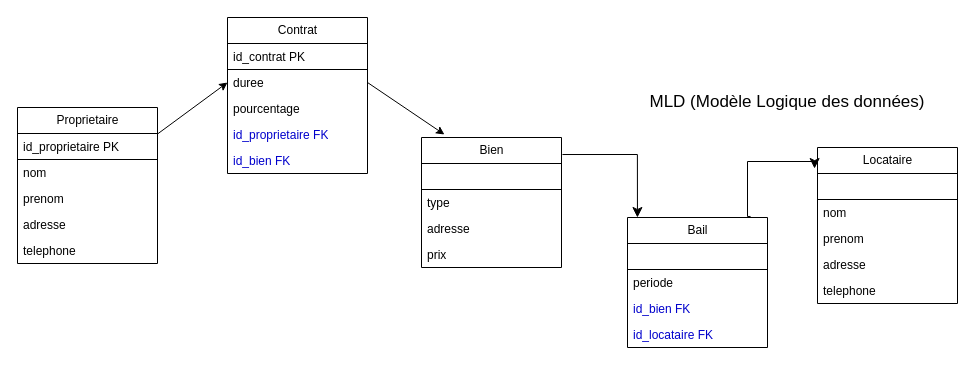
Image size: 975x368. Some labels were removed from this diagram. Here are the shapes that lost their labels. From the top down, the centre of each, then its label:
At (x=491, y=176): "id_bien PK".
At (x=887, y=186): "id_locataire PK".
At (x=697, y=256): "id_bail PK".
